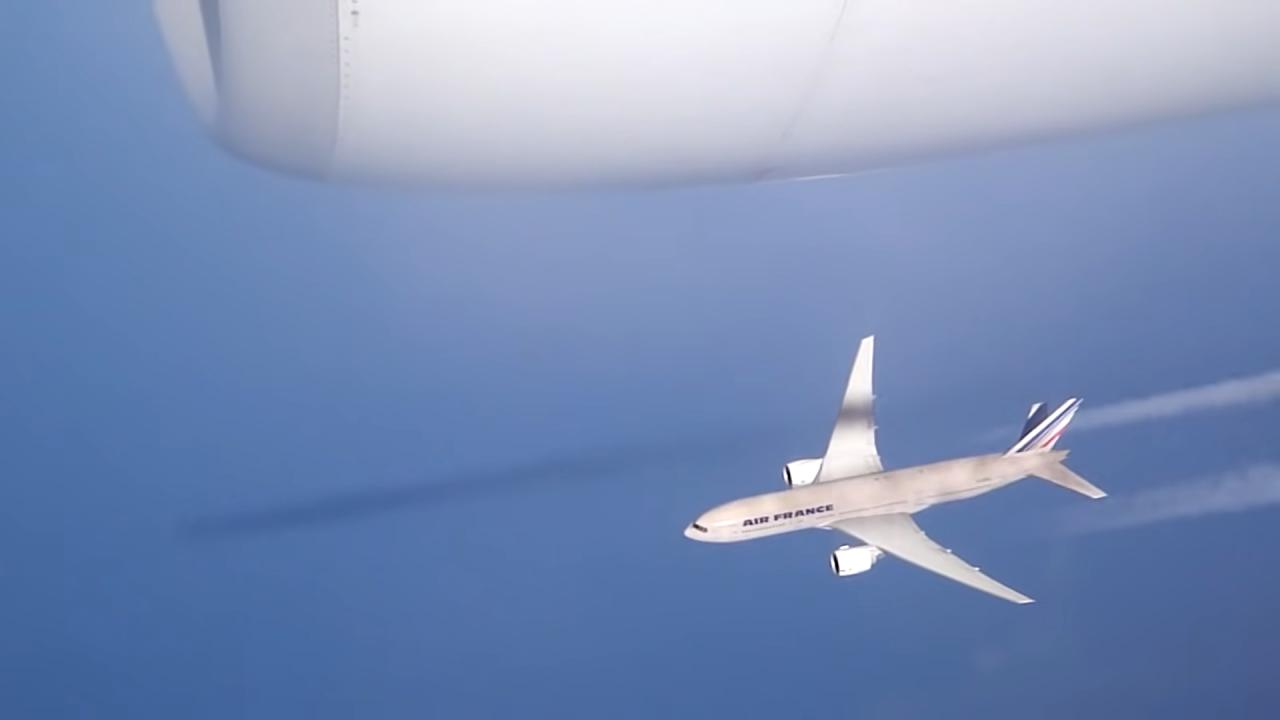Airplane: (670, 323, 1120, 615)
